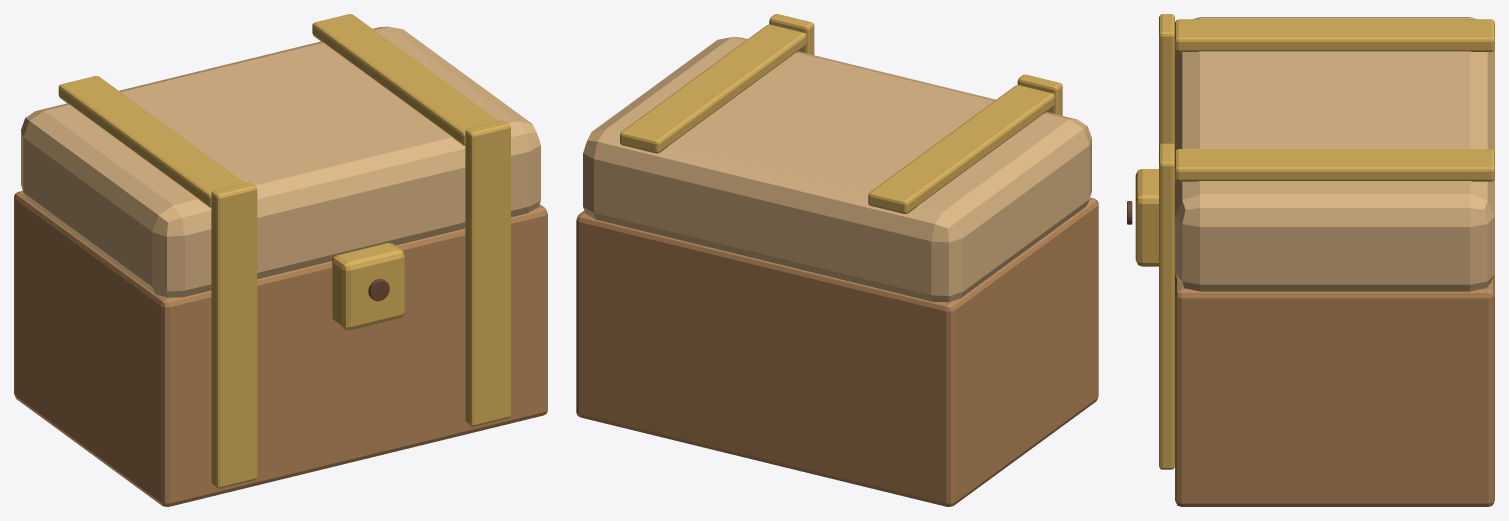
Rendered from P029_treasure_chest.glb.
3 views of the same model, side by side, from view 1: azimuth 30°, elevation 25°; view 2: azimuth 150°, elevation 25°; view 3: azimuth 270°, elevation 25° (orthographic). The views are drawn at different scales.
Visible parts, largest first — view 1: P029_chest_001, P029_lid_002, P029_strap_front_003, P029_strap_front_005, P029_strap_top_006, P029_strap_top_004, P029_lock_007; view 2: P029_chest_001, P029_lid_002, P029_strap_top_006, P029_strap_top_004, P029_strap_front_005, P029_strap_front_003; view 3: P029_chest_001, P029_lid_002, P029_strap_top_004, P029_strap_top_006, P029_strap_front_005, P029_lock_007, P029_strap_front_003.
Part boxes in pixels (left/top/right/bottom): P029_chest_001: left=14, top=191, right=547, bottom=506; P029_lid_002: left=21, top=26, right=540, bottom=297; P029_strap_front_003: left=211, top=182, right=257, bottom=488; P029_strap_front_005: left=465, top=120, right=510, bottom=426; P029_strap_top_006: left=312, top=14, right=498, bottom=145; P029_strap_top_004: left=58, top=76, right=244, bottom=207; P029_lock_007: left=332, top=243, right=404, bottom=330; P029_chest_001: left=576, top=197, right=1098, bottom=506; P029_lid_002: left=583, top=37, right=1091, bottom=302; P029_strap_top_006: left=620, top=24, right=806, bottom=153; P029_strap_top_004: left=868, top=85, right=1054, bottom=213; P029_strap_front_005: left=769, top=14, right=814, bottom=54; P029_strap_front_003: left=1017, top=74, right=1062, bottom=115; P029_chest_001: left=1175, top=274, right=1494, bottom=506; P029_lid_002: left=1175, top=17, right=1494, bottom=291; P029_strap_top_004: left=1175, top=19, right=1494, bottom=51; P029_strap_top_006: left=1175, top=149, right=1494, bottom=181; P029_strap_front_005: left=1159, top=143, right=1174, bottom=469; P029_lock_007: left=1135, top=169, right=1158, bottom=266; P029_strap_front_003: left=1159, top=14, right=1174, bottom=146.
Size of the model in its own units: 0.35 by 0.2675 by 0.276.
